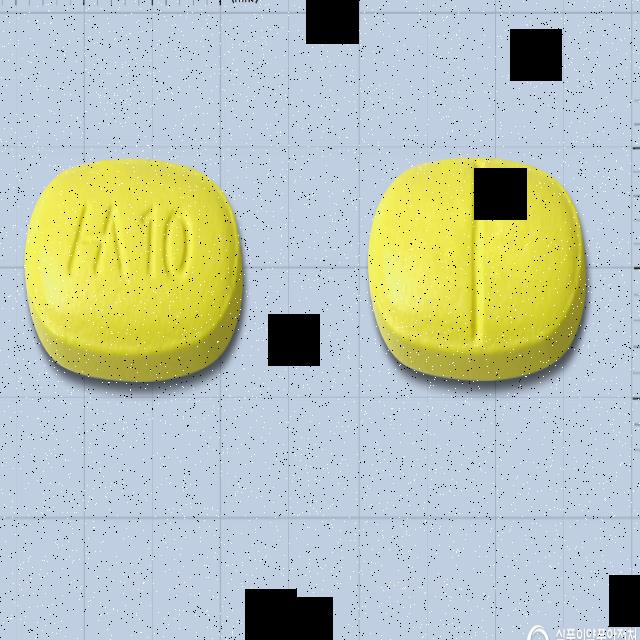Clarid - 250mg: (20, 157, 248, 394)
